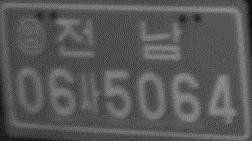0: (135, 70, 168, 122), (14, 66, 45, 115)
4: (206, 74, 236, 125)
5: (102, 69, 133, 119)
6: (170, 71, 204, 124), (45, 66, 77, 118)
사: (77, 72, 100, 116)
영: (13, 16, 49, 57)
전남_D: (54, 18, 185, 60)
